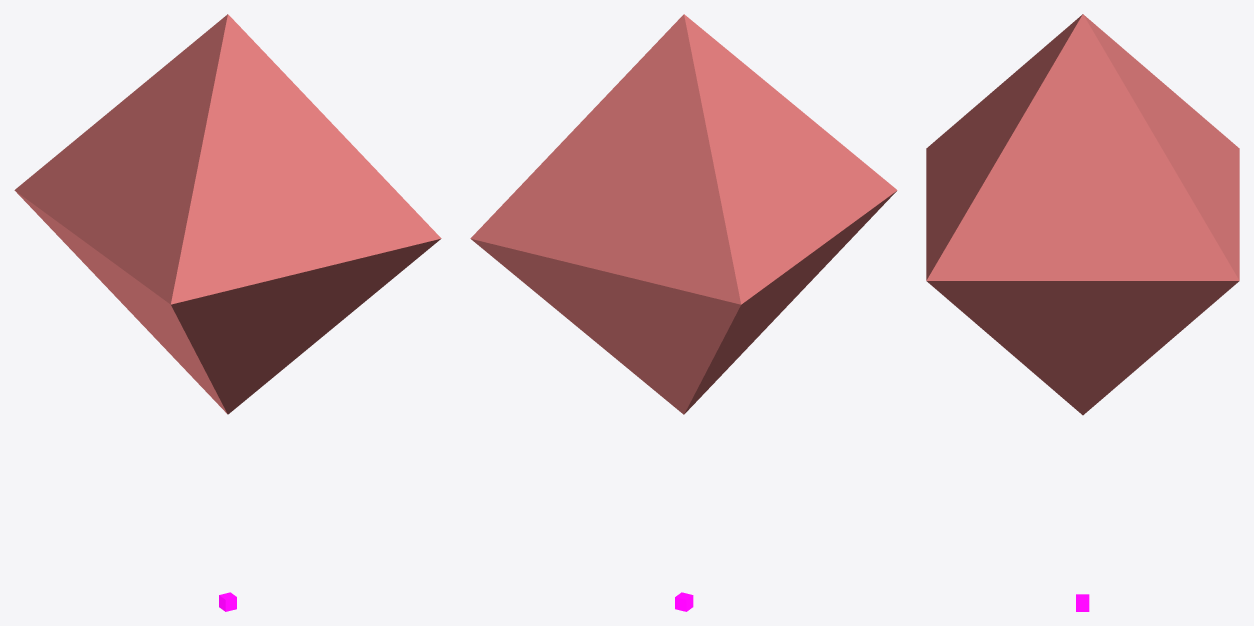
File: 1_waypoint.glb
3 renders of one model, left to right at view 1: azimuth 30°, elevation 25°; view 2: azimuth 150°, elevation 25°; view 3: azimuth 270°, elevation 25°, orthographic.
Visible parts, largest first — view 1: 01 Mesh0; view 2: 01 Mesh0; view 3: 01 Mesh0.
Part boxes in pixels (x1,y1,x2,y2): 01 Mesh0: (14,14,441,414); 01 Mesh0: (470,14,897,414); 01 Mesh0: (926,14,1239,415).
Bounding box in the file's own units: 0.3536 × 0.7411 × 0.3536.
